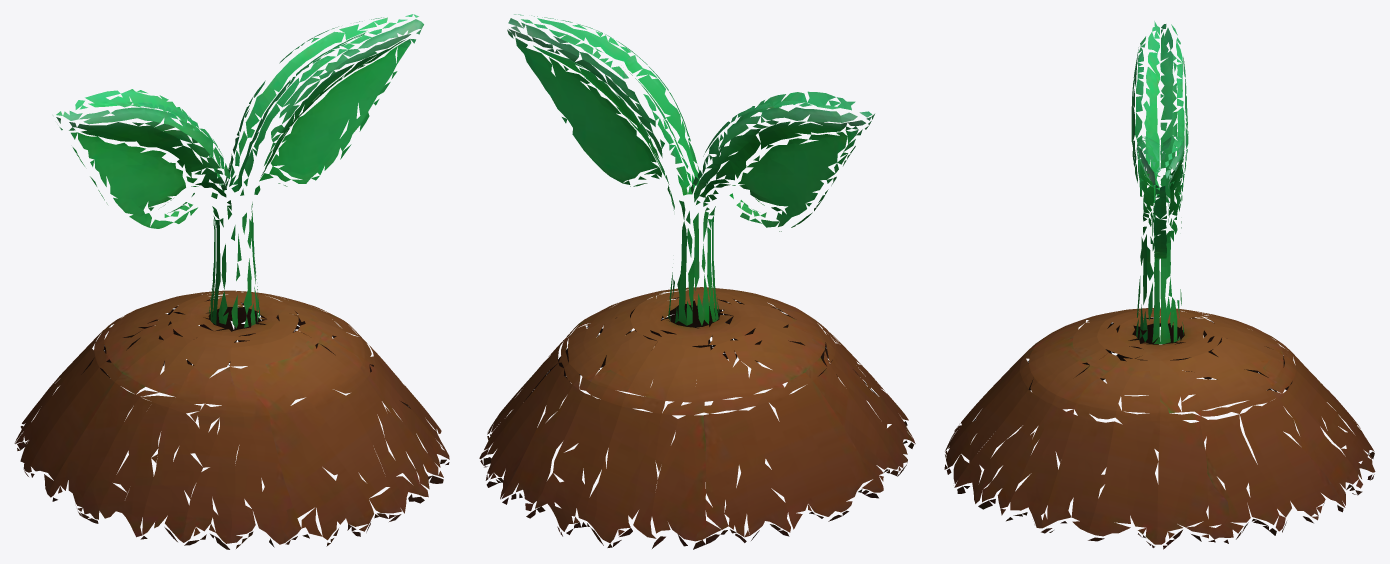
Rendered from familiarity_tree-1.glb.
3 views of the same model, side by side, from view 1: azimuth 30°, elevation 25°; view 2: azimuth 150°, elevation 25°; view 3: azimuth 270°, elevation 25° (orthographic). The views are drawn at different scales.
Visible parts, largest first — view 1: world; view 2: world; view 3: world.
Boxes of the visible parts, x1,y1,x2,y2 form: world: (14, 14, 449, 549); world: (479, 14, 915, 549); world: (944, 21, 1375, 549).
Size of the model in its own units: 0.9446 by 0.9742 by 0.9922.
Materials: 1 (1 with a texture image).
